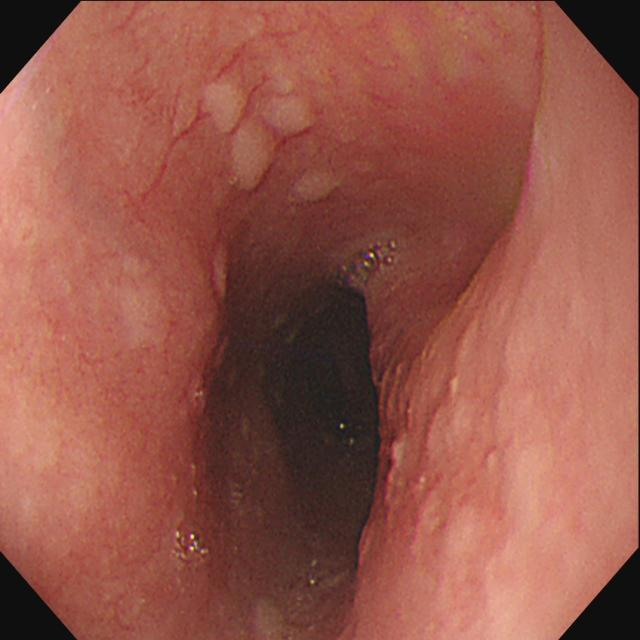A: (364, 320, 511, 565), (110, 247, 236, 453)
E: (268, 291, 382, 526)
J: (198, 60, 261, 134), (261, 70, 324, 144), (221, 122, 283, 196), (286, 158, 346, 212)
T: (334, 239, 400, 286), (170, 527, 215, 572)
